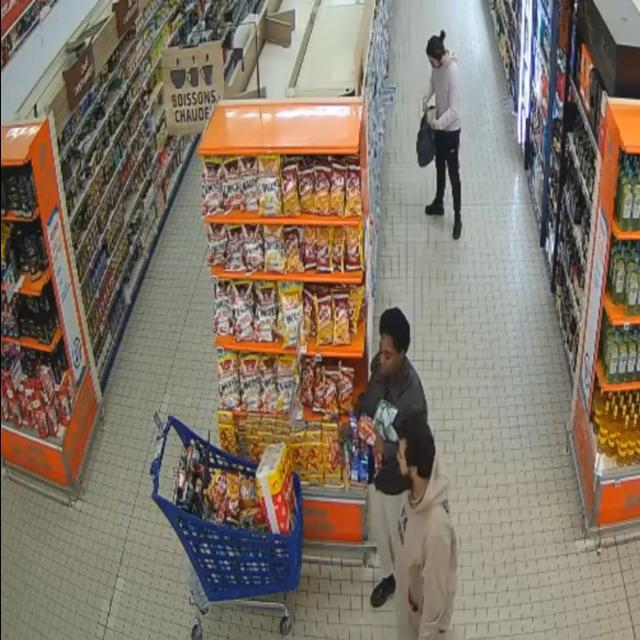article: (350, 413, 370, 484), (370, 398, 399, 424), (381, 407, 399, 443), (357, 413, 376, 446), (374, 419, 387, 441), (374, 451, 383, 478), (425, 107, 437, 126)
bags: (416, 114, 436, 168)
hands: (375, 432, 384, 456), (422, 96, 428, 113), (430, 120, 437, 129)
person: (357, 308, 427, 607), (395, 412, 457, 639), (423, 31, 461, 239)
